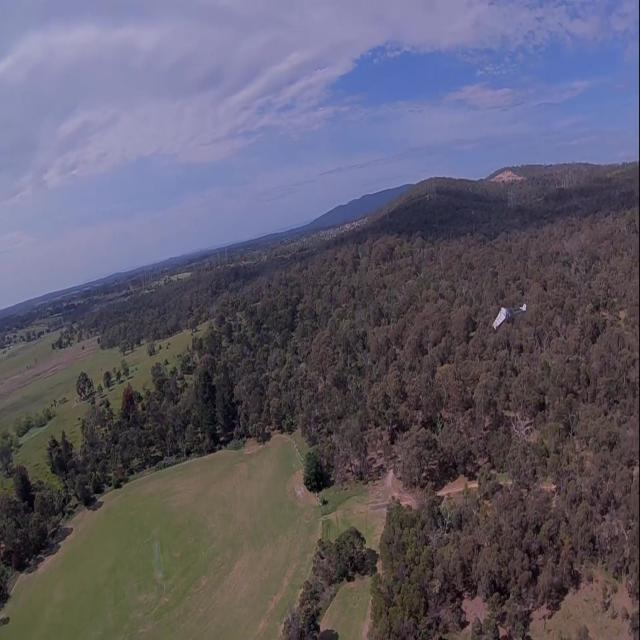iha: (480, 301, 540, 326)
